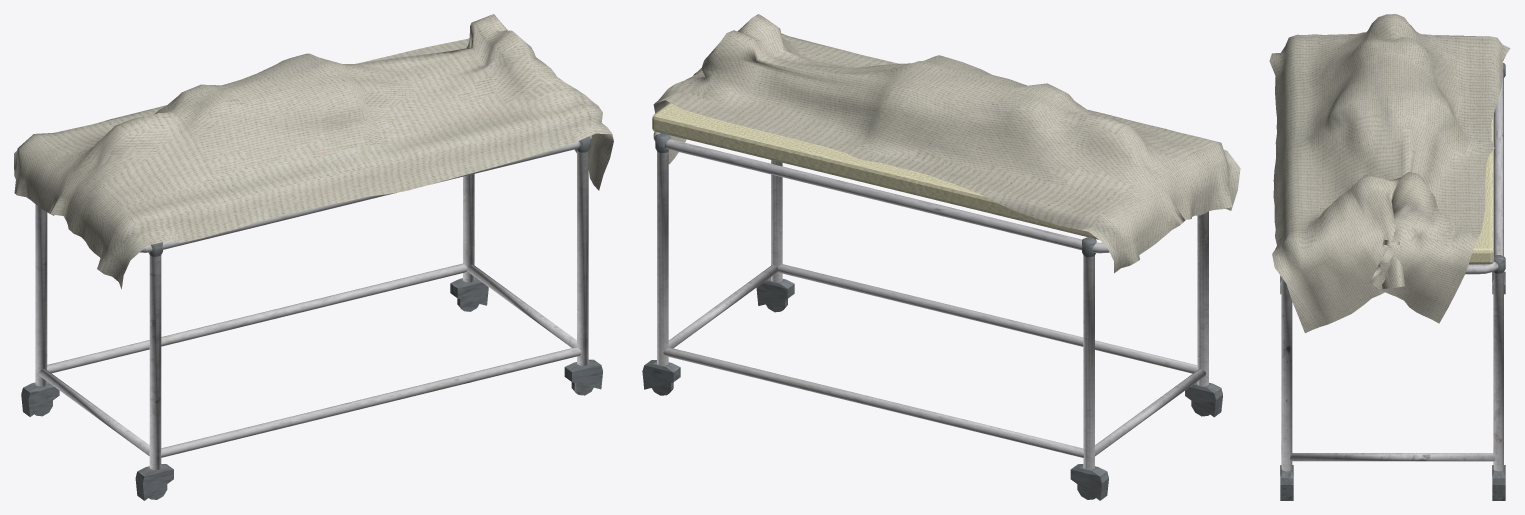
Rendered from hospital_stretcher.glb.
The picture shows the model from 3 angles, left to right: view 1: azimuth 30°, elevation 25°; view 2: azimuth 150°, elevation 25°; view 3: azimuth 270°, elevation 25°; orthographic projection. The views are drawn at different scales.
Parts seen in each view (by area): view 1: Maca; view 2: Maca; view 3: Maca.
Part boxes in pixels (<box>): Maca: <box>14,14,613,500</box>; Maca: <box>642,14,1240,500</box>; Maca: <box>1269,14,1510,500</box>.
Bounding box in the file's own units: 243 × 155 × 108.
4 materials, 4 textured.
